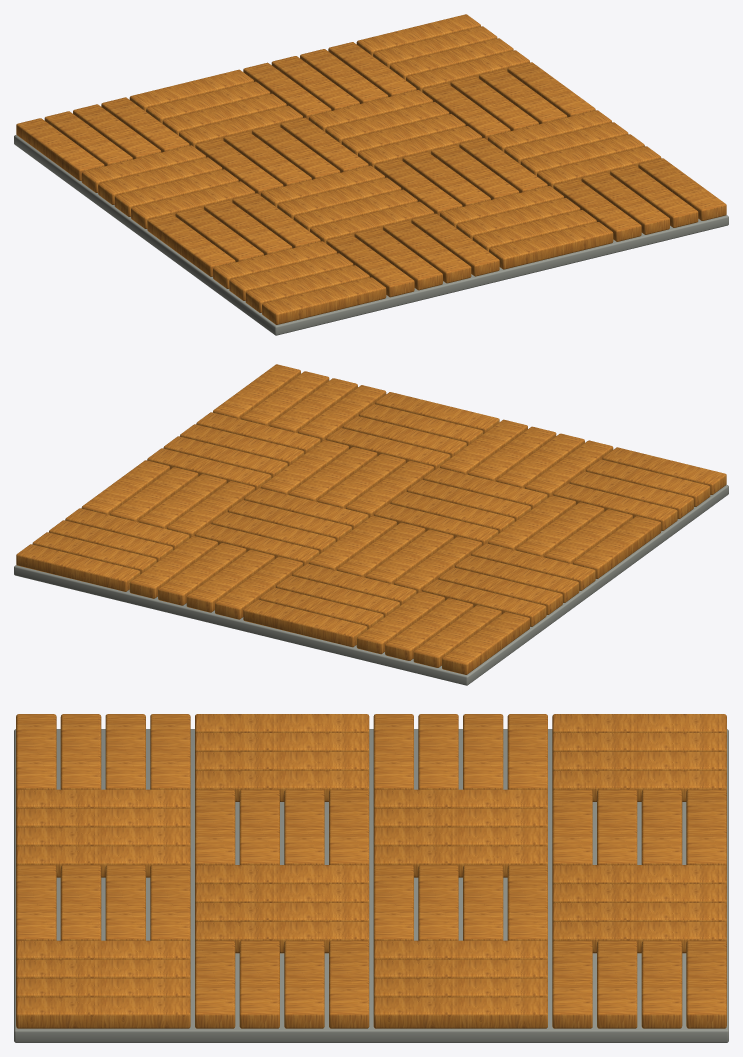
Rendered from deck-patio.glb.
The picture shows the model from 3 angles, top to bottom: view 1: azimuth 30°, elevation 25°; view 2: azimuth 150°, elevation 25°; view 3: azimuth 270°, elevation 25°; orthographic projection. The views are drawn at different scales.
Parts seen in each view (by area): view 1: deck-patio; view 2: deck-patio; view 3: deck-patio.
Boxes of the visible parts, x1,y1,x2,y2 form: deck-patio: (14,14,728,335); deck-patio: (14,364,728,685); deck-patio: (14,714,728,1042).
Size of the model in its own units: 2 by 0.09 by 2.
Materials: 2 (1 with a texture image).
